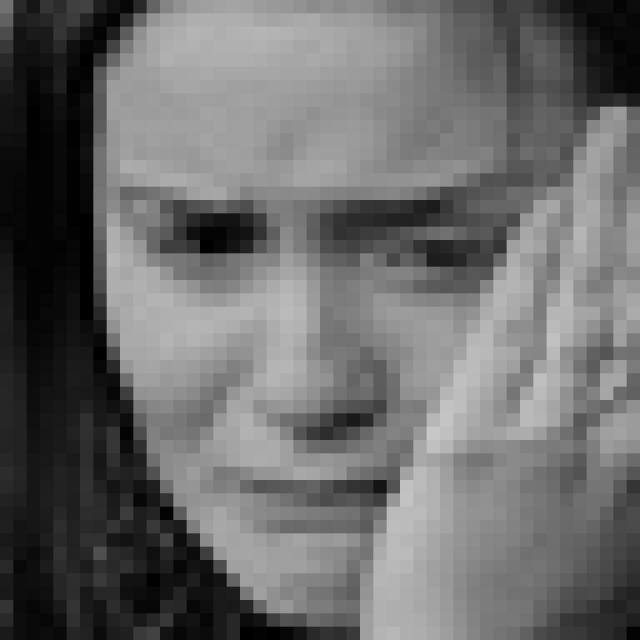sad: (126, 185, 512, 541)
